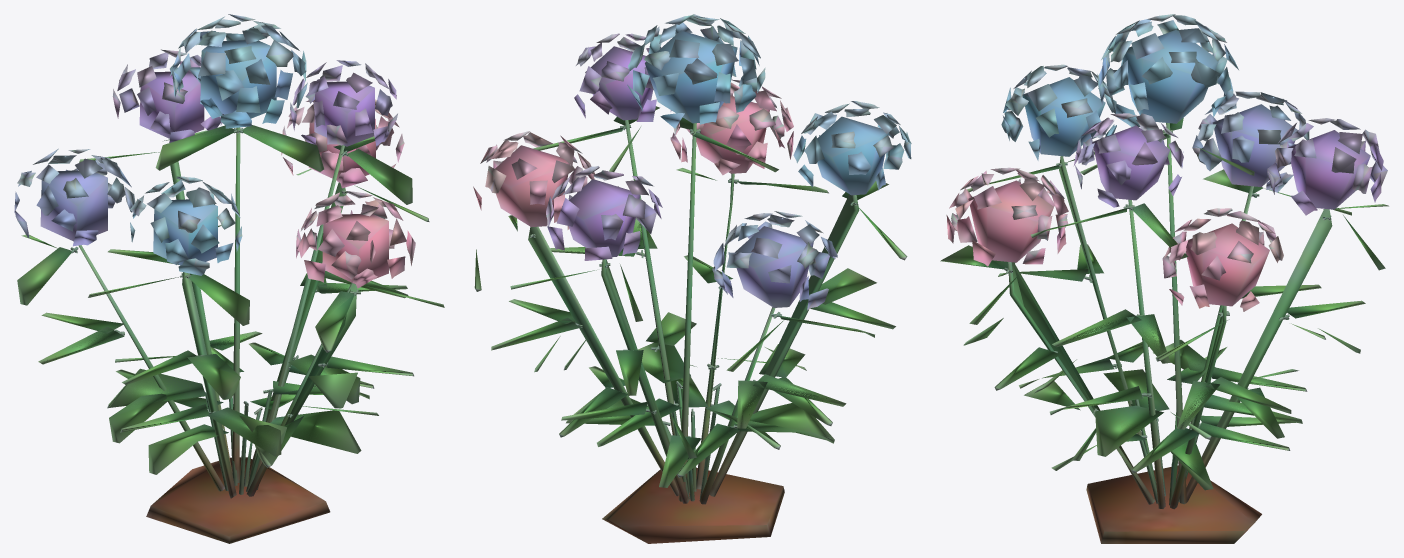
File: hydrangea.glb
The picture shows the model from 3 angles, left to right: view 1: azimuth 30°, elevation 25°; view 2: azimuth 150°, elevation 25°; view 3: azimuth 270°, elevation 25°; orthographic projection. The views are drawn at different scales.
Parts seen in each view (by area): view 1: hydrangea_body; view 2: hydrangea_body; view 3: hydrangea_body.
Boxes of the visible parts, x1,y1,x2,y2 form: hydrangea_body: [14, 14, 444, 543]; hydrangea_body: [473, 14, 911, 543]; hydrangea_body: [940, 14, 1388, 543].
Bounding box in the file's own units: 0.8252 × 0.9816 × 0.8154.
Materials: 1 (1 with a texture image).
